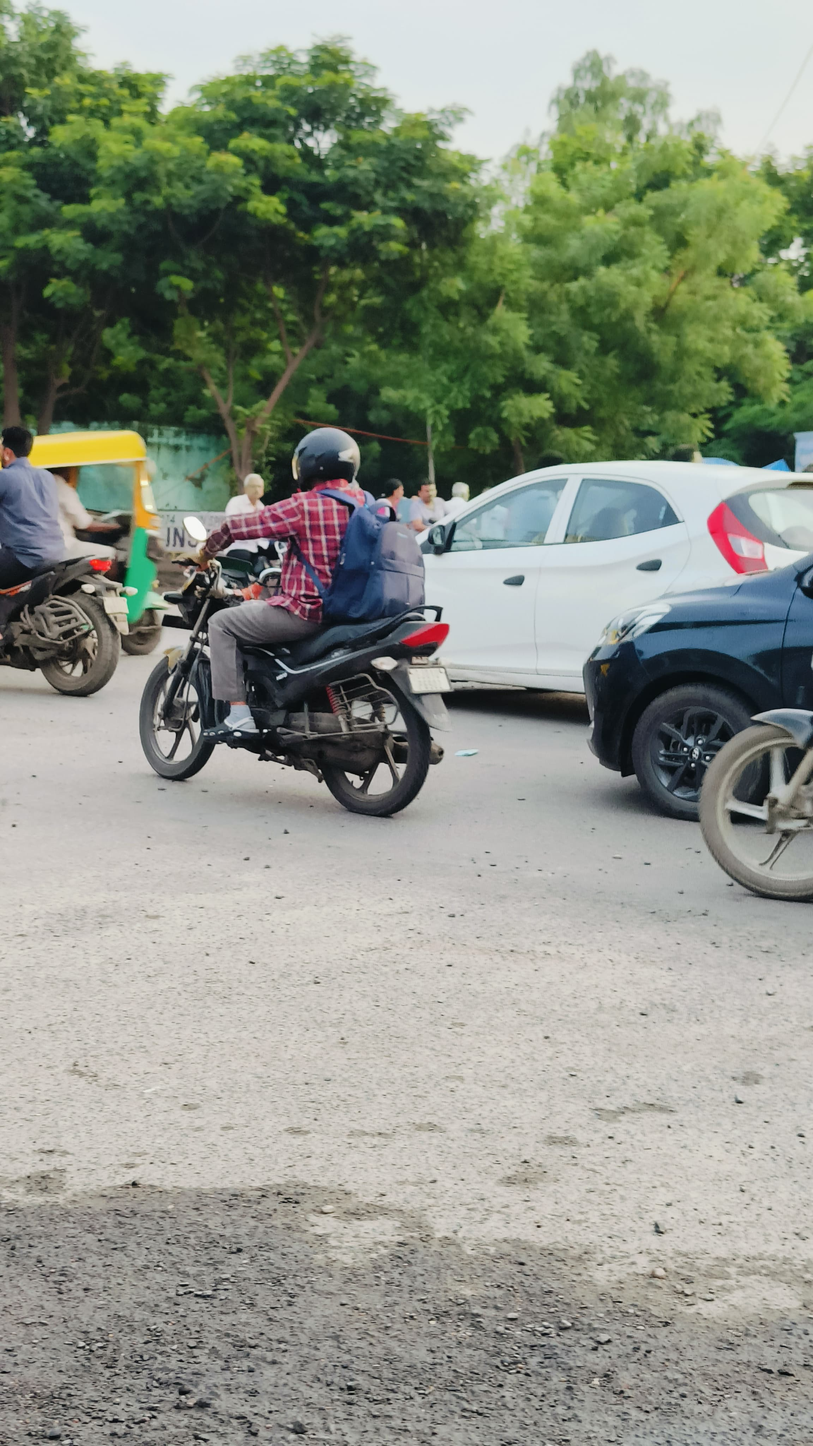BikeWithRider: (128, 421, 464, 826)
Helmet: (285, 422, 372, 501)
